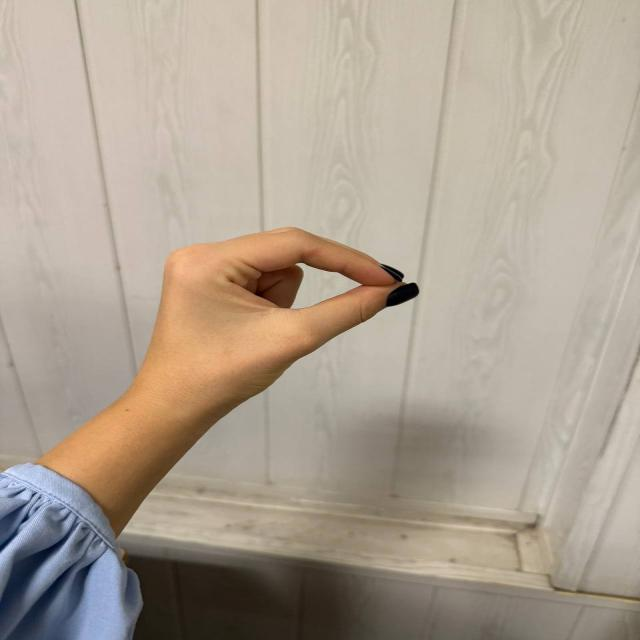ch: (136, 205, 438, 363)
